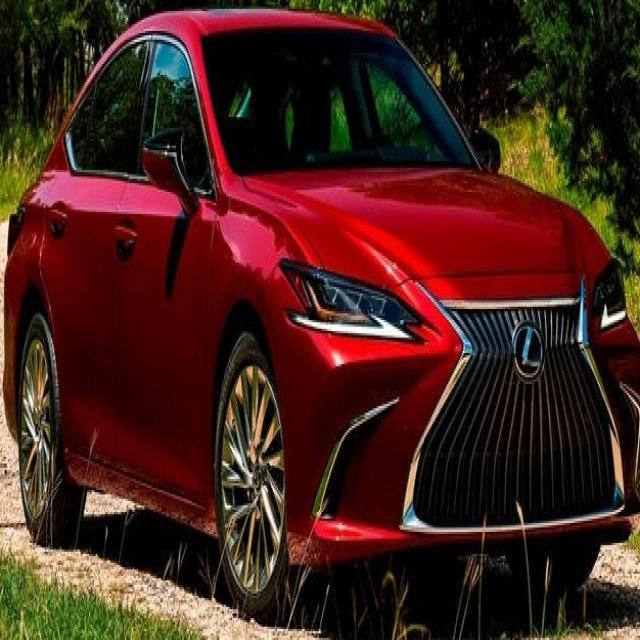maroon: (6, 14, 640, 572)
